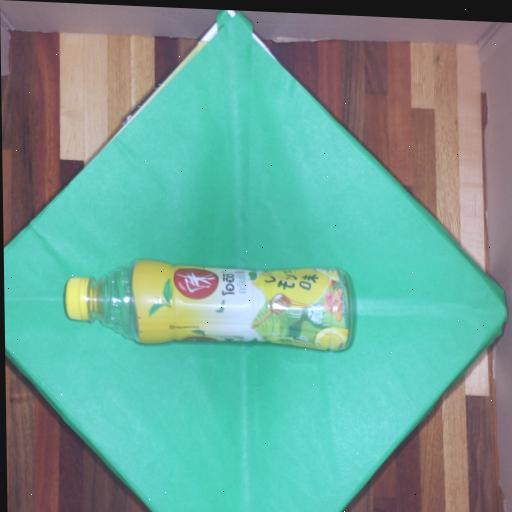bottle: (65, 260, 352, 350)
